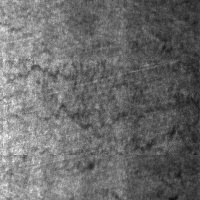crazing: (3, 59, 199, 155), (112, 69, 198, 150)
